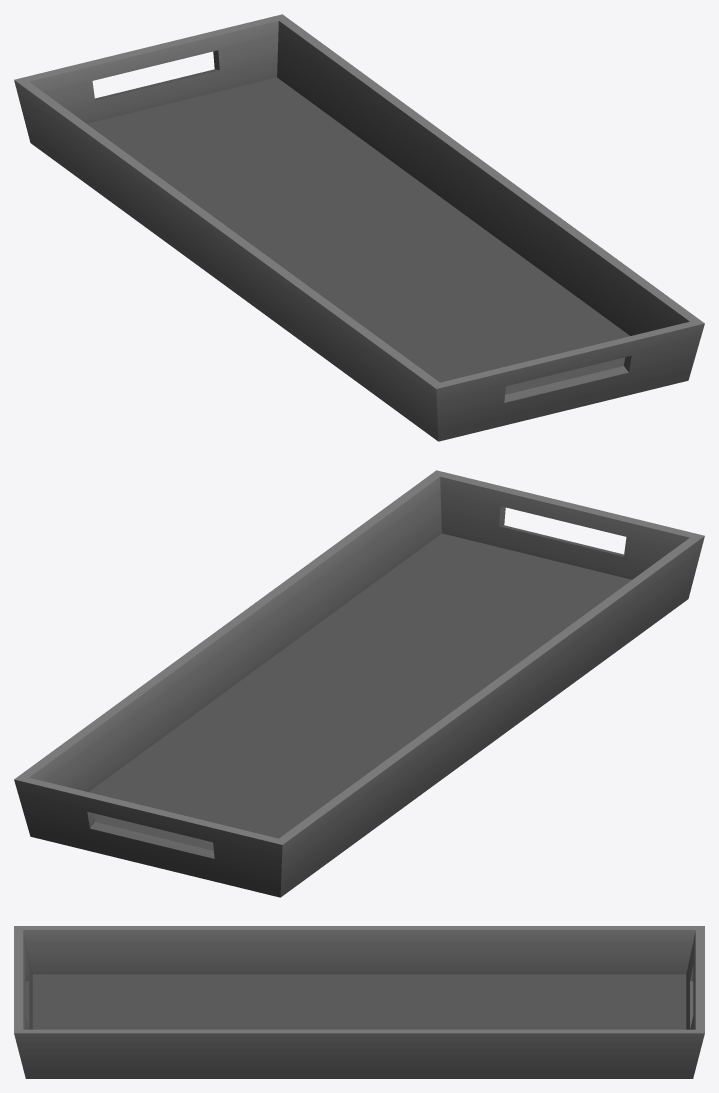
Rendered from FoodProp_4_2_D.fbx.
The picture shows the model from 3 angles, top to bottom: view 1: azimuth 30°, elevation 25°; view 2: azimuth 150°, elevation 25°; view 3: azimuth 270°, elevation 25°; orthographic projection. The views are drawn at different scales.
Visible parts, largest first — view 1: FoodProp_4_2_D; view 2: FoodProp_4_2_D; view 3: FoodProp_4_2_D.
Boxes of the visible parts, bbox=[...] form: FoodProp_4_2_D: bbox=[14, 14, 704, 441]; FoodProp_4_2_D: bbox=[14, 470, 704, 897]; FoodProp_4_2_D: bbox=[14, 926, 704, 1078].
Bounding box in the file's own units: 22.66 × 4.86 × 61.74.
